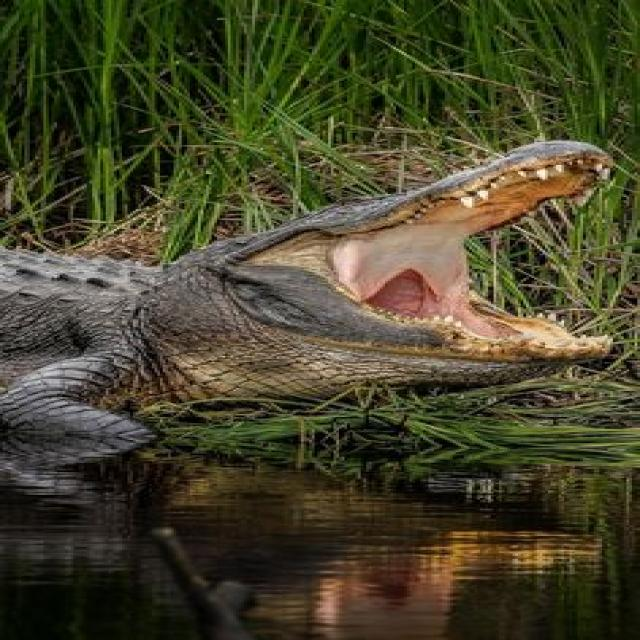Carnivorous: (0, 141, 610, 503)
